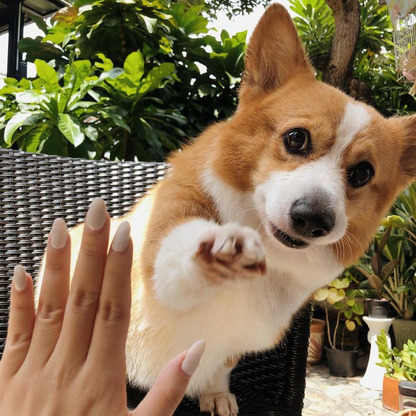Corgi: (145, 13, 399, 368)
